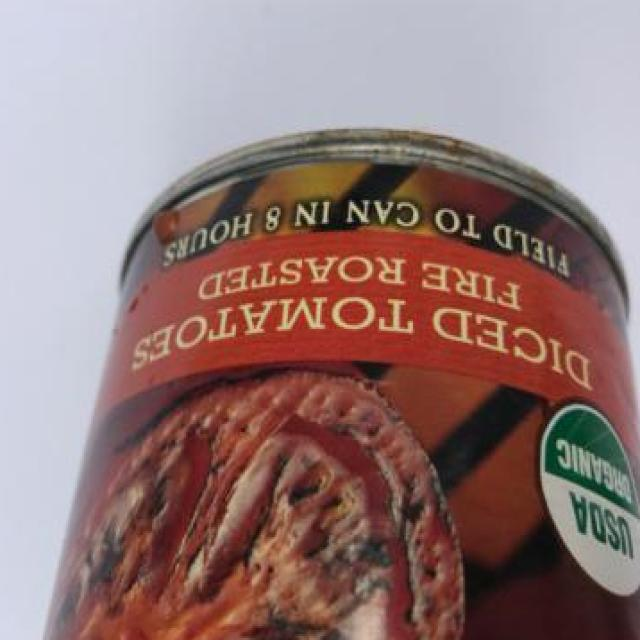organic: (38, 116, 631, 635)
